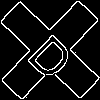D: (25, 25, 83, 83)
